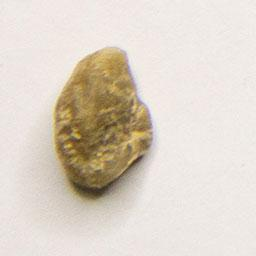defect: (51, 43, 157, 195)
